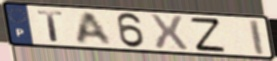6: (115, 12, 146, 49)
A: (74, 11, 114, 46)
I: (247, 18, 266, 56)
T: (36, 9, 66, 43)
X: (147, 12, 191, 51)
Z: (188, 17, 228, 53)
